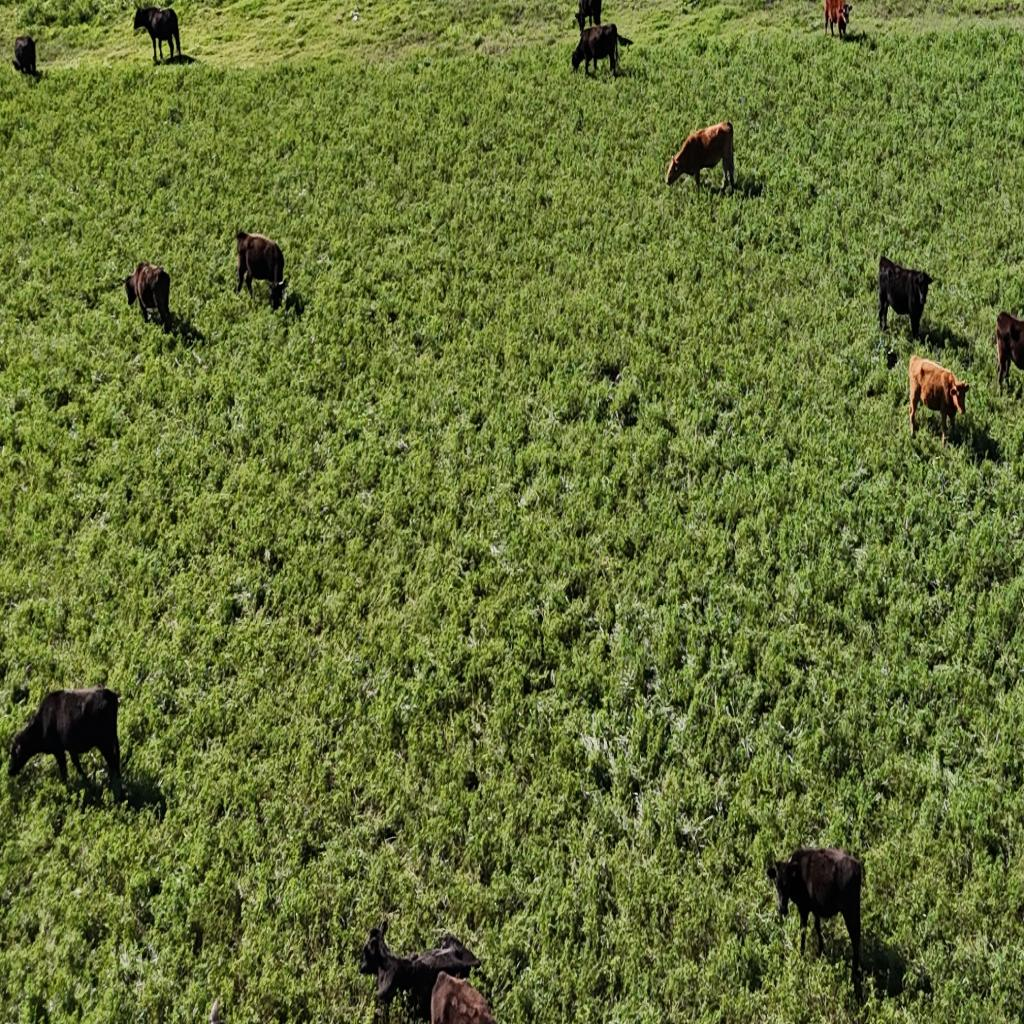cow: (7, 686, 125, 808), (768, 845, 864, 991), (356, 920, 486, 1024), (906, 353, 968, 447), (665, 120, 734, 198), (878, 252, 934, 340), (234, 228, 286, 307), (122, 260, 172, 330), (132, 3, 182, 64), (570, 24, 624, 80), (993, 308, 1024, 397), (824, 0, 852, 40), (12, 35, 37, 76), (574, 0, 601, 30)
